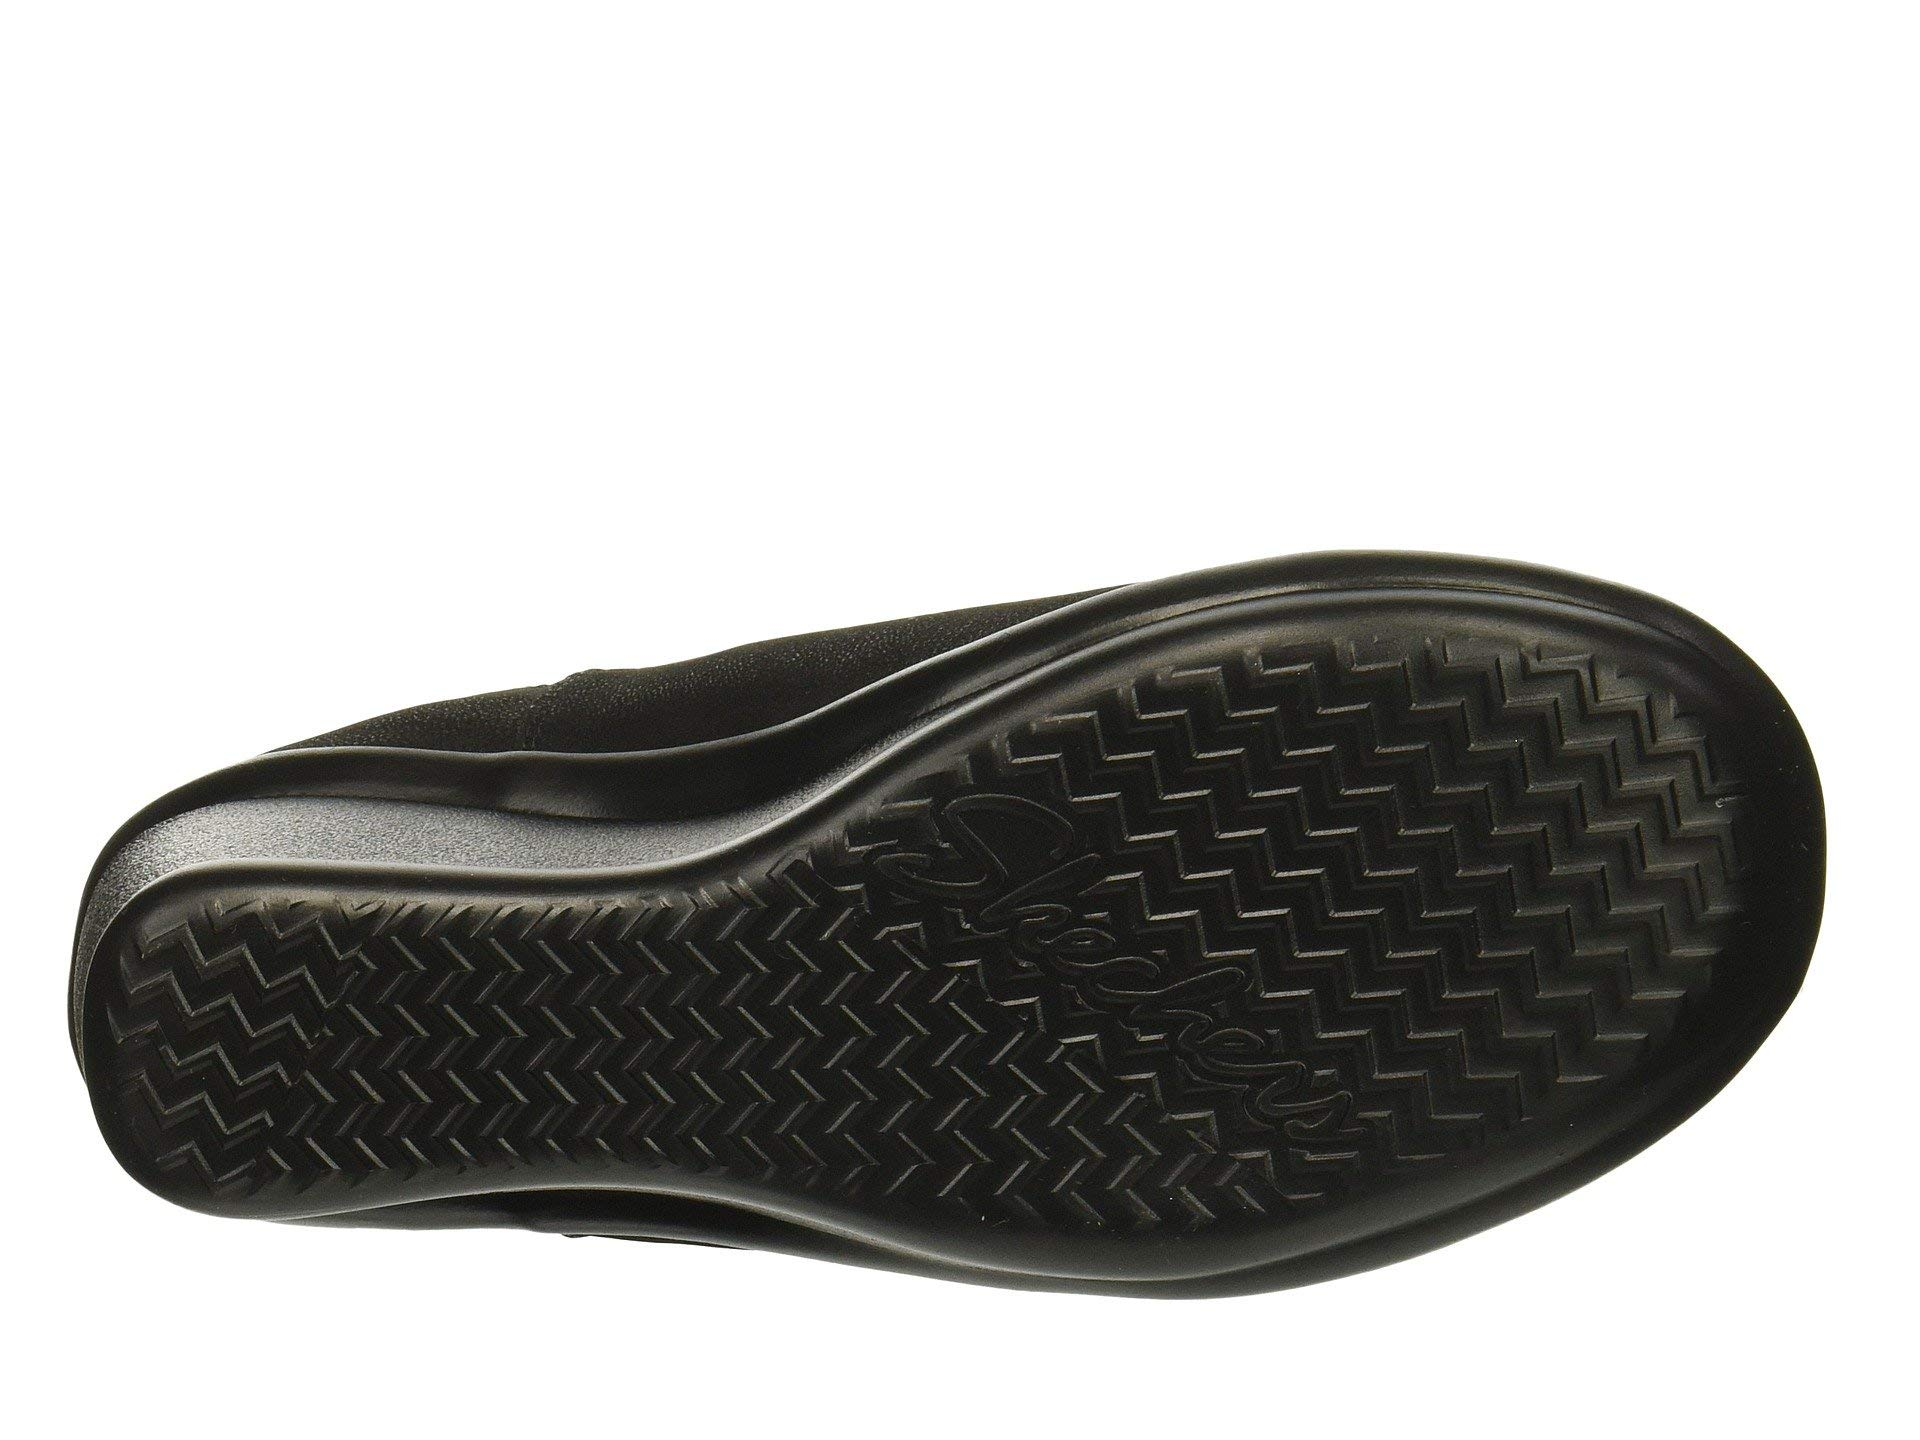chevron: (1302, 703, 1693, 1054), (890, 806, 1268, 1131), (257, 915, 562, 1162)
text: (890, 806, 1268, 1131)
